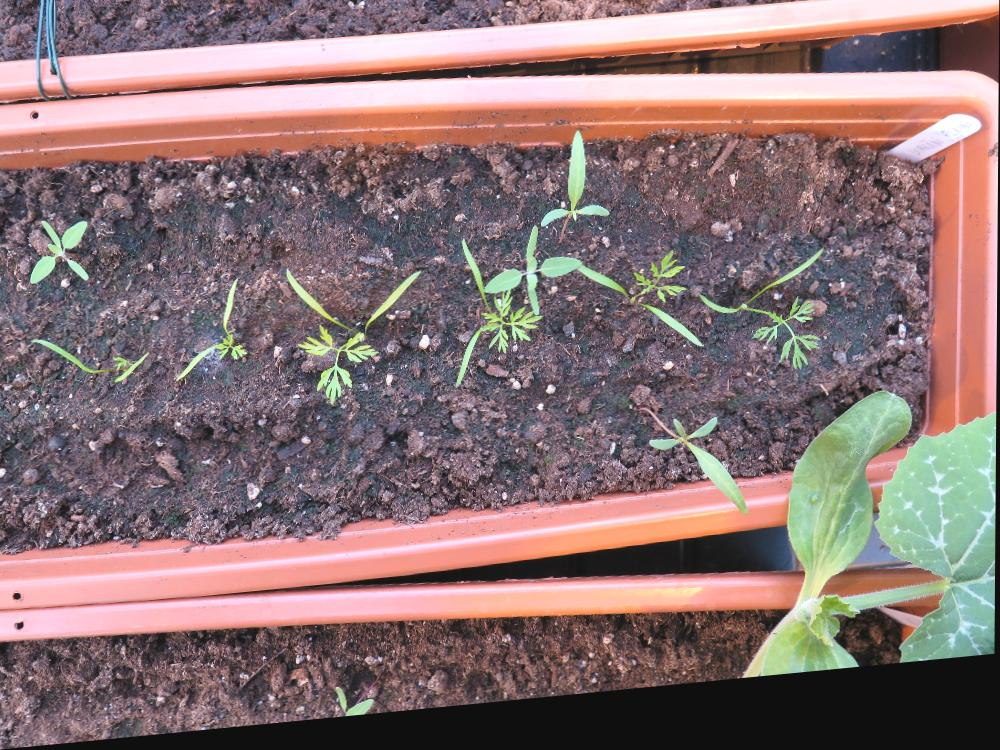crop: (283, 262, 427, 417), (27, 326, 151, 395), (174, 279, 247, 386)
weed: (646, 424, 748, 538), (538, 136, 611, 238), (28, 212, 89, 286)
